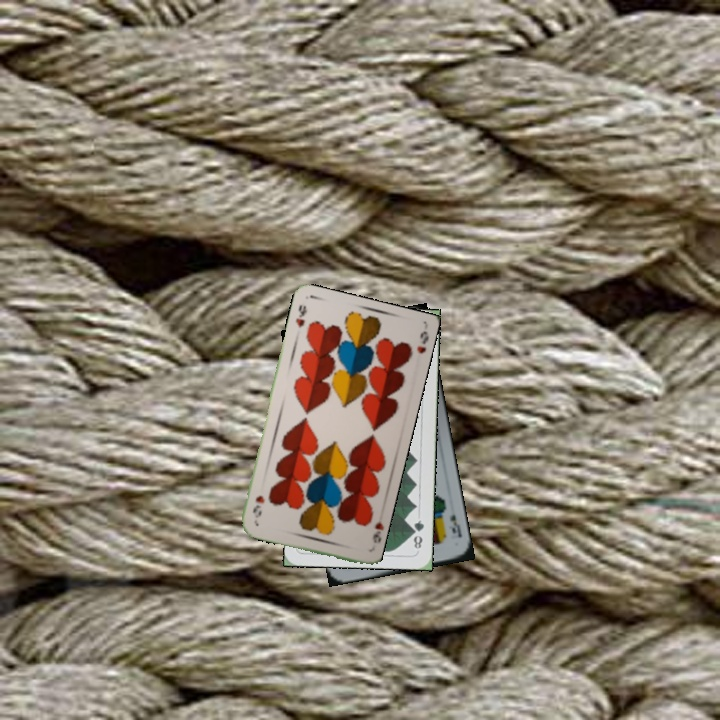EK: (445, 510, 464, 540)
G8: (409, 516, 427, 551)
H9: (368, 511, 385, 546), (291, 300, 309, 330)
